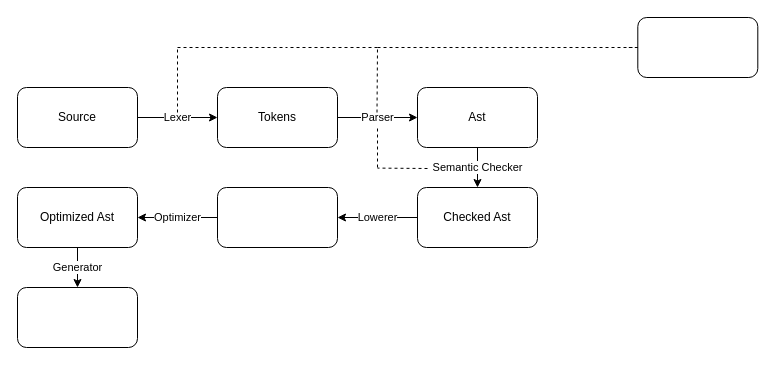
This 776x365 diagram has some shape labels left out. Each missing label, with the box of its shape:
Compiler Instance: (637, 16, 758, 78)
LLVM Code: (16, 286, 138, 348)
Low Level Ast: (216, 186, 338, 248)
